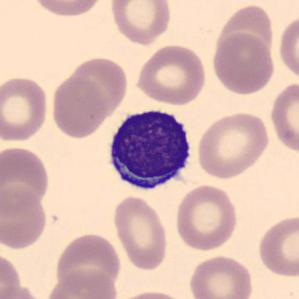Lymphocyte: (102, 102, 198, 195)
RBC: (194, 108, 272, 180), (133, 42, 208, 106), (111, 193, 171, 272), (173, 182, 240, 252), (53, 231, 123, 295), (210, 31, 278, 96), (211, 2, 277, 68), (49, 74, 109, 140), (66, 54, 130, 114), (0, 144, 51, 216), (0, 74, 50, 144), (186, 252, 256, 299), (0, 186, 49, 251), (108, 0, 174, 46), (256, 212, 298, 280), (43, 267, 120, 299), (267, 79, 299, 156), (277, 12, 298, 84), (29, 0, 106, 19), (0, 251, 23, 299), (113, 288, 190, 299), (0, 283, 46, 299)
